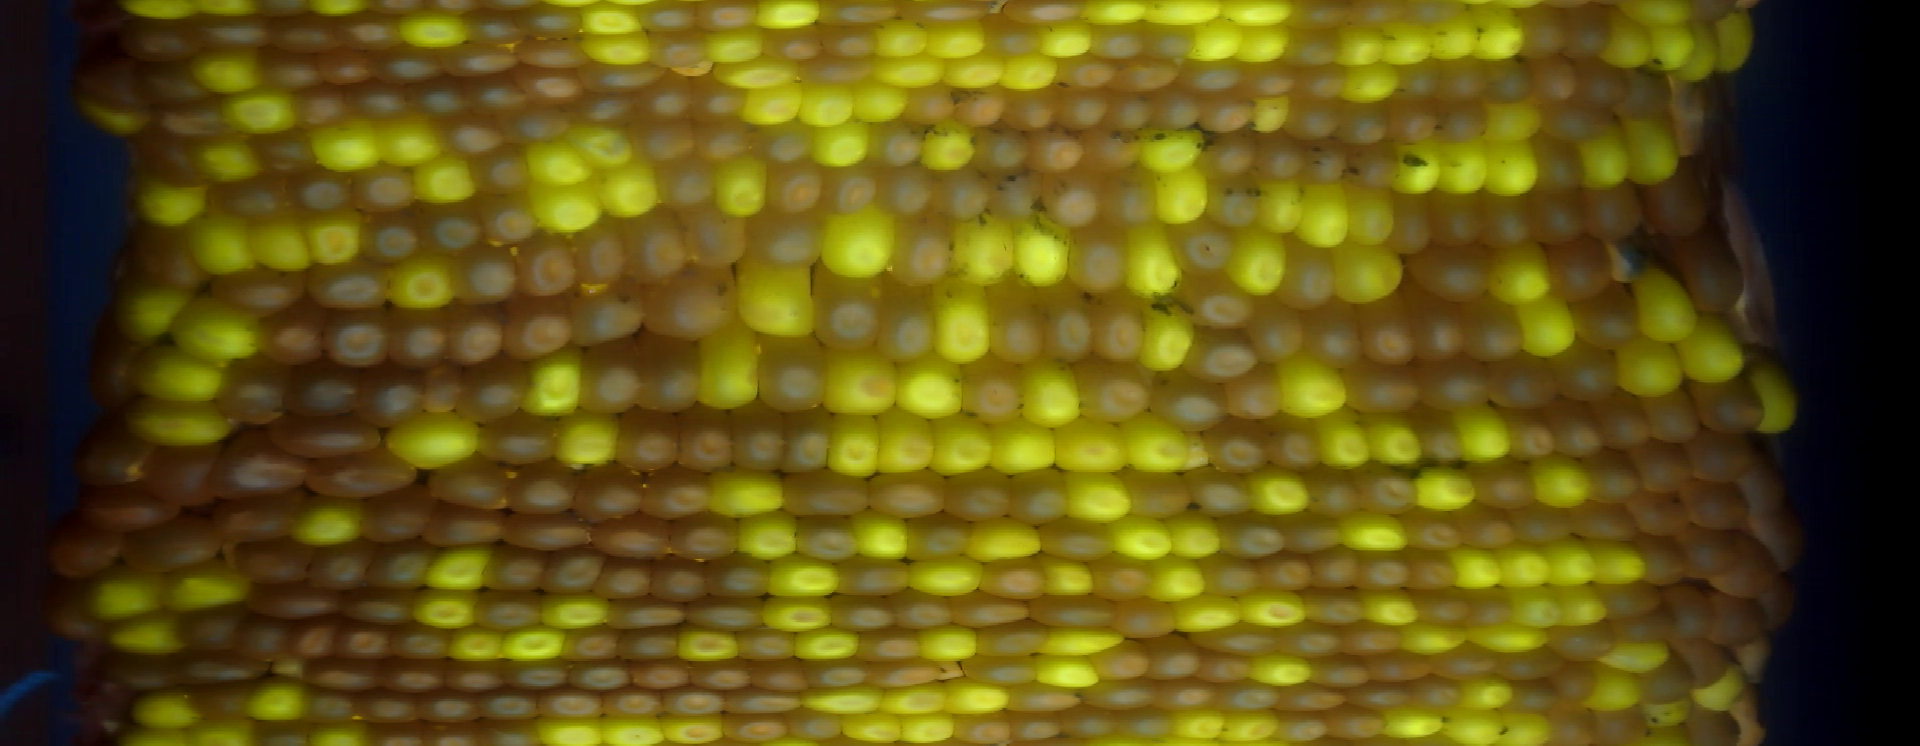fluorescent: (736, 249, 820, 343), (823, 341, 902, 419), (818, 205, 896, 282), (122, 394, 242, 445), (1118, 217, 1187, 303), (1635, 265, 1702, 350), (951, 208, 1021, 287), (175, 296, 257, 361), (129, 344, 219, 402), (1325, 236, 1404, 301), (929, 285, 996, 363), (700, 325, 760, 409), (1010, 208, 1070, 292), (387, 412, 478, 467), (1054, 412, 1133, 475), (520, 339, 587, 414), (1120, 412, 1196, 475), (873, 405, 940, 475), (1684, 314, 1751, 382), (304, 114, 384, 170), (1608, 339, 1689, 396), (1282, 352, 1349, 418), (564, 113, 638, 171), (1140, 296, 1199, 370), (1060, 467, 1134, 526), (933, 412, 999, 477), (192, 209, 256, 277), (989, 416, 1060, 477), (382, 254, 456, 311), (1292, 181, 1356, 247), (1129, 119, 1204, 175), (1473, 134, 1540, 196), (408, 146, 478, 206), (84, 567, 165, 619), (1025, 354, 1078, 432), (251, 213, 318, 274), (904, 355, 965, 423), (710, 465, 792, 516), (1491, 239, 1554, 304), (1515, 290, 1576, 356), (1228, 228, 1288, 295), (163, 563, 247, 611), (1625, 116, 1682, 186), (594, 156, 660, 216), (847, 503, 913, 562), (767, 552, 845, 601), (828, 412, 887, 477), (219, 86, 298, 134), (718, 48, 807, 89), (1311, 412, 1373, 472), (1456, 401, 1513, 464), (1104, 511, 1176, 562), (115, 682, 200, 725), (909, 551, 987, 597), (118, 281, 179, 338), (299, 491, 361, 548), (871, 51, 950, 96), (191, 50, 268, 96), (1242, 579, 1308, 632), (422, 541, 493, 590), (378, 114, 446, 165), (1469, 7, 1529, 65), (1177, 17, 1249, 65), (520, 138, 593, 186), (1435, 138, 1496, 195), (1163, 503, 1220, 565), (1752, 365, 1798, 441), (971, 516, 1051, 559), (144, 171, 207, 225), (307, 202, 360, 266), (1531, 451, 1594, 503), (1467, 612, 1549, 653), (1370, 413, 1427, 472), (1250, 461, 1313, 513), (733, 508, 797, 560), (1333, 513, 1414, 554), (920, 119, 978, 174), (1258, 176, 1311, 236), (580, 24, 651, 70), (399, 9, 473, 51), (113, 612, 186, 655), (677, 620, 746, 665), (1591, 535, 1647, 590), (413, 586, 479, 632), (942, 676, 1018, 717), (800, 680, 883, 717), (741, 81, 804, 129), (562, 412, 618, 465), (1540, 535, 1594, 590), (718, 160, 768, 219), (1413, 464, 1476, 511), (1596, 17, 1652, 69), (1033, 653, 1104, 693), (1583, 129, 1630, 190), (852, 77, 909, 127), (1583, 664, 1640, 714), (1444, 706, 1513, 746), (1649, 17, 1698, 75), (1346, 185, 1393, 244), (249, 676, 309, 723), (1035, 18, 1102, 59), (1340, 60, 1404, 102), (1602, 637, 1675, 674), (1384, 702, 1445, 746), (502, 622, 571, 661), (924, 13, 987, 56), (1397, 138, 1442, 197), (1149, 556, 1207, 601), (787, 624, 860, 660), (879, 680, 951, 717), (869, 13, 929, 58), (1000, 49, 1060, 93), (760, 598, 838, 632), (1397, 620, 1468, 657), (1687, 669, 1750, 710), (796, 85, 856, 127), (546, 597, 618, 632), (939, 53, 1007, 91), (811, 124, 869, 167), (1449, 544, 1502, 590), (1357, 586, 1420, 625), (1041, 627, 1125, 657), (661, 709, 729, 746), (1502, 541, 1550, 593), (1681, 24, 1723, 83), (1484, 100, 1545, 140), (204, 141, 258, 185), (1040, 554, 1093, 598), (1176, 595, 1244, 628), (1251, 653, 1318, 687), (841, 709, 907, 744), (1177, 707, 1234, 746), (1714, 9, 1751, 70), (1460, 675, 1518, 713), (703, 28, 773, 60), (582, 1, 644, 37), (1556, 583, 1607, 627), (1336, 23, 1389, 65), (539, 713, 605, 746), (1513, 590, 1570, 627), (600, 714, 665, 746), (1387, 20, 1434, 64), (449, 624, 503, 661), (923, 624, 981, 659), (1430, 12, 1472, 61), (1239, 22, 1292, 59), (905, 712, 960, 746), (1224, 714, 1283, 746), (1504, 707, 1550, 746), (758, 2, 823, 29), (1642, 692, 1692, 725), (1251, 93, 1287, 134)
nonfluorescent: (636, 269, 733, 341), (756, 338, 833, 416), (426, 450, 520, 513), (214, 435, 307, 499), (624, 206, 693, 290), (572, 456, 655, 522), (125, 514, 224, 570), (814, 274, 887, 349), (1678, 232, 1752, 303), (580, 338, 650, 414), (816, 271, 883, 348), (987, 290, 1054, 366), (320, 306, 399, 370), (1093, 292, 1151, 379), (1414, 243, 1498, 303), (1640, 171, 1718, 235), (271, 412, 386, 454), (1149, 367, 1224, 432), (1484, 352, 1566, 412), (1416, 287, 1477, 366), (640, 339, 708, 412), (260, 309, 336, 372), (1178, 323, 1261, 381), (504, 298, 591, 353), (302, 448, 424, 488), (146, 441, 223, 502), (509, 456, 584, 518), (1070, 220, 1131, 296), (1304, 299, 1365, 375), (751, 208, 824, 271), (573, 285, 656, 341), (78, 481, 182, 526), (887, 276, 940, 360), (1558, 339, 1630, 402), (904, 220, 970, 288), (1357, 295, 1420, 365), (672, 404, 735, 475), (458, 359, 530, 420), (355, 485, 433, 541), (309, 262, 398, 311), (247, 579, 347, 624), (730, 405, 791, 477), (136, 223, 203, 287), (73, 56, 149, 113), (1467, 293, 1528, 363), (471, 423, 571, 465), (594, 512, 678, 562), (233, 537, 317, 587), (1549, 236, 1614, 301), (691, 203, 754, 269), (204, 495, 300, 539), (504, 511, 593, 559), (424, 499, 504, 550), (204, 176, 291, 224), (524, 228, 580, 301), (787, 465, 872, 514), (1280, 241, 1342, 307), (447, 296, 509, 363), (283, 367, 361, 420), (219, 356, 287, 418), (669, 503, 744, 557), (638, 467, 710, 523), (1580, 180, 1644, 243), (1351, 365, 1428, 416), (576, 217, 629, 290), (392, 311, 462, 367), (871, 464, 947, 516), (300, 541, 380, 590), (1358, 459, 1423, 519), (51, 527, 129, 577), (940, 467, 1014, 519), (1691, 379, 1761, 434), (73, 435, 162, 478), (1545, 394, 1605, 457), (1041, 290, 1093, 361), (688, 64, 746, 129), (213, 266, 302, 307), (449, 249, 517, 304), (252, 129, 321, 183), (141, 129, 211, 181), (1097, 169, 1161, 227), (1228, 356, 1280, 428), (820, 160, 884, 217), (1261, 413, 1318, 477), (1200, 416, 1265, 472), (1473, 461, 1539, 514), (468, 153, 535, 206), (1215, 511, 1283, 562), (1258, 293, 1305, 366), (1682, 523, 1747, 577), (1194, 464, 1251, 524), (479, 191, 540, 247), (182, 598, 244, 654), (1347, 138, 1417, 187), (1747, 501, 1800, 566), (431, 114, 516, 154), (167, 93, 244, 137), (682, 597, 771, 635), (291, 165, 362, 213), (1251, 135, 1319, 185), (1689, 430, 1756, 480), (623, 412, 680, 472), (880, 162, 936, 223), (1500, 405, 1561, 461), (492, 541, 555, 595), (476, 588, 549, 635), (118, 17, 196, 60), (189, 12, 267, 55), (947, 590, 1035, 628), (355, 377, 421, 428), (1129, 472, 1196, 521), (792, 516, 857, 566), (602, 592, 688, 630), (1646, 387, 1702, 445), (1571, 499, 1644, 543), (1198, 274, 1258, 328), (1526, 194, 1587, 246), (544, 546, 605, 599), (347, 583, 418, 628), (1030, 593, 1120, 628), (366, 40, 441, 83), (1173, 224, 1229, 281), (1479, 192, 1536, 249), (984, 165, 1051, 213), (1599, 390, 1651, 451), (420, 203, 482, 254), (1092, 551, 1155, 601), (1194, 624, 1288, 657), (981, 556, 1049, 601), (1010, 469, 1068, 523), (1425, 363, 1491, 409), (367, 544, 438, 587), (144, 56, 208, 104), (1642, 534, 1698, 588), (1656, 581, 1709, 637), (1480, 51, 1538, 104), (1026, 125, 1086, 175), (1047, 517, 1109, 565), (189, 646, 267, 684), (1286, 89, 1341, 143), (1078, 127, 1145, 171), (836, 555, 910, 595), (638, 71, 694, 124), (241, 609, 298, 661), (1423, 194, 1480, 245), (649, 552, 707, 604), (355, 681, 413, 733), (1149, 86, 1209, 135), (791, 405, 834, 474), (114, 653, 182, 696), (336, 6, 397, 54), (263, 13, 336, 54), (910, 514, 976, 559), (702, 555, 771, 597), (1144, 16, 1198, 70), (1723, 538, 1777, 592), (1640, 437, 1692, 492), (438, 40, 523, 75), (1207, 180, 1265, 230), (1305, 462, 1356, 519), (517, 2, 584, 45), (1534, 134, 1583, 192), (361, 211, 421, 258), (298, 78, 362, 122), (1684, 481, 1749, 526), (1562, 2, 1609, 64), (1629, 61, 1675, 122), (1591, 451, 1644, 503), (457, 4, 523, 47), (933, 167, 988, 218), (355, 164, 413, 213), (767, 159, 824, 208), (1712, 586, 1761, 643), (413, 361, 463, 416), (1057, 696, 1112, 746), (1052, 85, 1108, 134), (593, 555, 655, 599), (1435, 59, 1493, 107), (620, 628, 689, 668), (1389, 187, 1429, 255), (1679, 703, 1746, 744), (1205, 85, 1256, 137), (977, 124, 1029, 176), (1386, 96, 1440, 146), (98, 353, 142, 414), (1082, 674, 1156, 710), (1320, 704, 1389, 744), (1205, 134, 1262, 180), (1205, 549, 1262, 595), (193, 681, 256, 724), (1008, 87, 1067, 132), (1145, 635, 1204, 680), (1280, 677, 1352, 714), (1284, 512, 1344, 556), (951, 706, 1016, 746), (1311, 544, 1368, 590), (1120, 593, 1177, 639), (1513, 502, 1571, 548), (1060, 56, 1127, 96), (1549, 100, 1608, 145), (876, 118, 924, 170), (460, 76, 530, 113), (566, 657, 636, 693), (1438, 643, 1505, 681), (1296, 58, 1352, 103), (393, 622, 458, 661), (1256, 546, 1314, 590), (518, 67, 589, 103), (1360, 646, 1431, 681), (1578, 64, 1631, 111), (702, 119, 757, 164), (516, 37, 588, 71), (1215, 676, 1280, 714), (1340, 96, 1391, 143), (1046, 174, 1091, 228), (962, 650, 1033, 685), (784, 706, 844, 746), (1308, 649, 1371, 687), (762, 119, 812, 167), (1636, 491, 1687, 538), (1011, 677, 1081, 712), (860, 624, 924, 660), (538, 681, 600, 719), (1458, 507, 1513, 550), (557, 630, 626, 664), (878, 650, 947, 685), (1153, 673, 1220, 708), (1286, 23, 1342, 65), (1517, 6, 1562, 58), (1289, 624, 1354, 659), (576, 91, 638, 127), (909, 77, 958, 124), (642, 122, 702, 160), (339, 625, 396, 665), (833, 595, 899, 630), (1118, 704, 1172, 746), (692, 657, 757, 691), (1340, 680, 1404, 714), (1533, 58, 1578, 107), (688, 1, 760, 32), (486, 682, 542, 722), (351, 81, 411, 118), (1400, 677, 1460, 714), (818, 18, 876, 56), (1360, 551, 1416, 590), (1409, 508, 1460, 551), (715, 712, 782, 744), (321, 47, 372, 88), (1417, 587, 1473, 625), (411, 688, 487, 717), (1089, 23, 1142, 62), (413, 80, 467, 119), (1198, 646, 1251, 685), (812, 661, 873, 696), (305, 686, 356, 726), (264, 51, 321, 88), (1687, 632, 1724, 688), (730, 685, 803, 713), (508, 657, 571, 690), (666, 685, 729, 718), (956, 83, 1009, 122), (896, 586, 950, 624), (1509, 669, 1558, 710), (1097, 648, 1153, 684), (647, 34, 709, 66), (1396, 56, 1444, 98), (1600, 579, 1663, 611), (1498, 644, 1560, 676), (1313, 588, 1362, 628), (1551, 707, 1605, 744), (1276, 709, 1331, 745), (414, 719, 486, 746), (771, 22, 820, 61), (1558, 660, 1600, 704), (298, 619, 342, 661), (623, 660, 697, 686), (1187, 58, 1245, 89), (444, 660, 503, 692), (50, 606, 107, 639), (310, 661, 378, 688), (600, 692, 669, 719), (1124, 56, 1182, 88), (1412, 548, 1457, 588), (392, 659, 447, 692), (587, 65, 669, 87), (1109, 89, 1150, 134), (746, 622, 792, 660), (1347, 625, 1404, 655), (642, 2, 697, 34), (489, 717, 547, 746), (1311, 141, 1349, 186), (756, 657, 807, 690), (514, 111, 576, 138), (1742, 467, 1784, 506), (827, 2, 893, 27), (1251, 56, 1297, 92), (1561, 620, 1607, 655), (1760, 583, 1794, 628), (1599, 707, 1638, 746), (1014, 710, 1056, 746), (1464, 583, 1510, 612)
